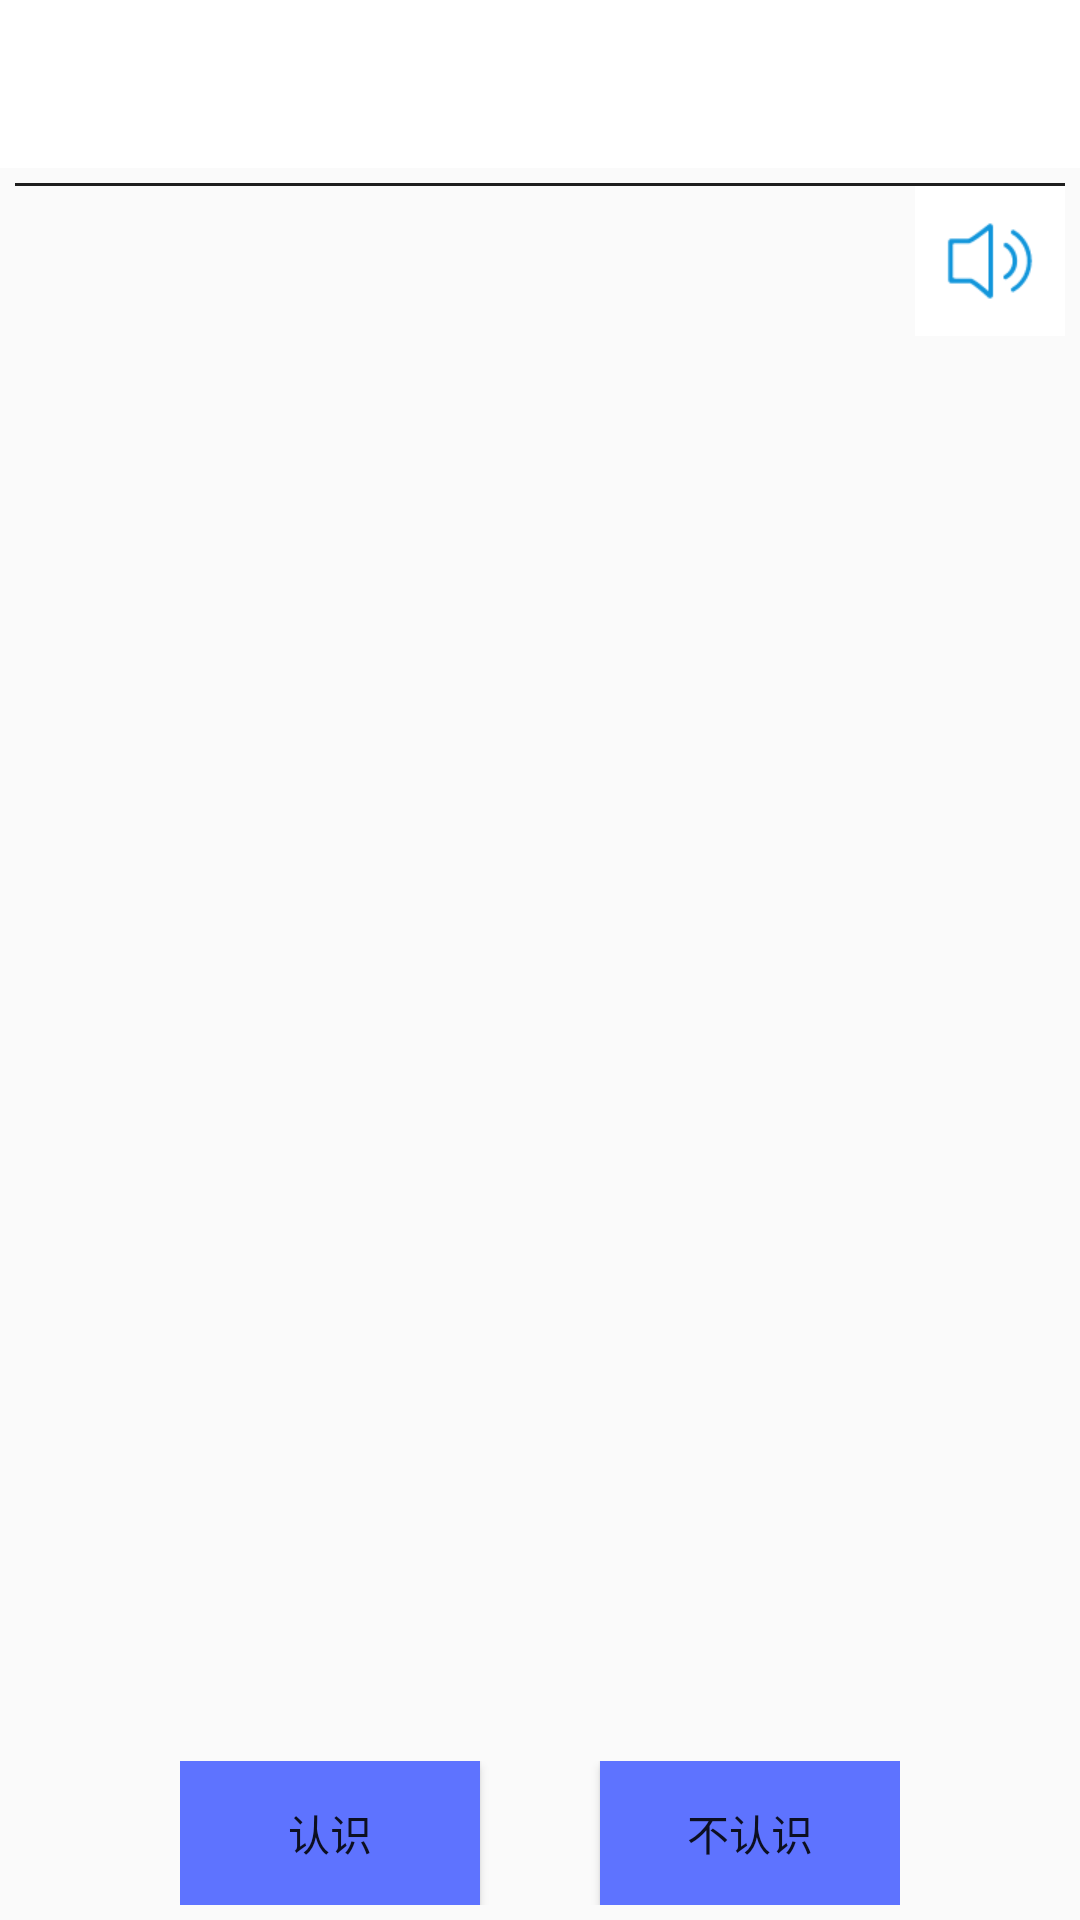

Screen size 1080×1920. Icon name, then its box in pixels as box(x1, y1, x2, y2):
voice: box(947, 223, 1033, 299)
